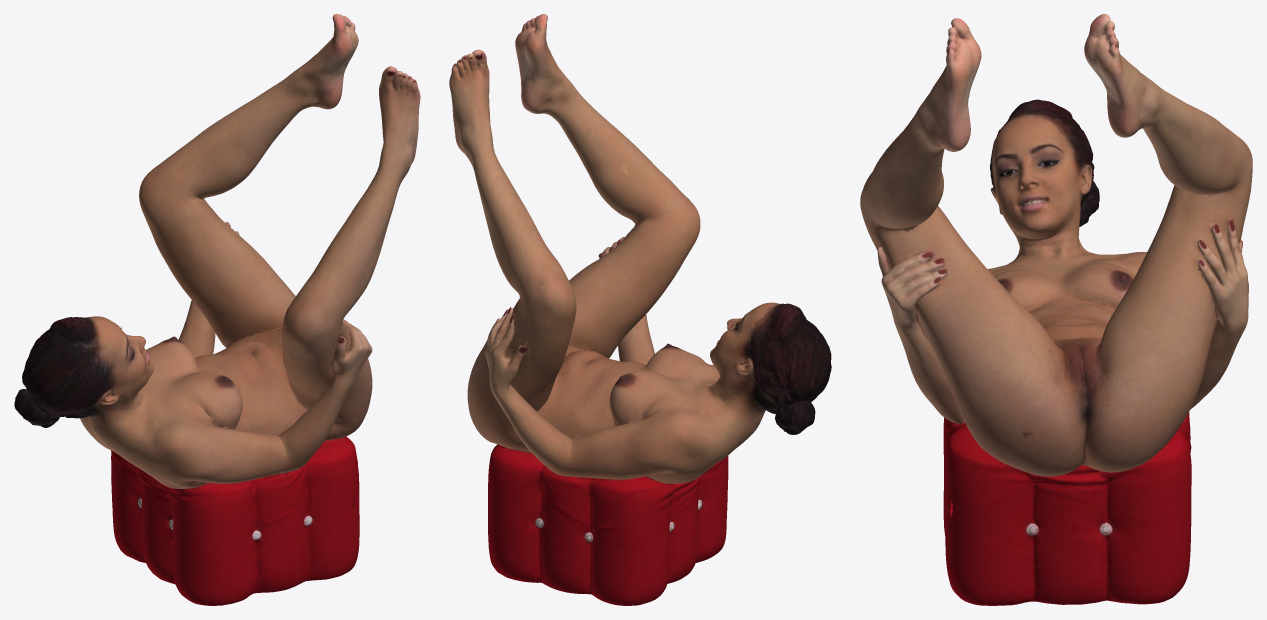
File: 10_opt.glb
3 renders of one model, left to right at view 1: azimuth 30°, elevation 25°; view 2: azimuth 150°, elevation 25°; view 3: azimuth 270°, elevation 25°, orthographic. The views are drawn at different scales.
Visible parts, largest first — view 1: 67_LOD0; view 2: 67_LOD0; view 3: 67_LOD0.
Boxes of the visible parts, box(x1,y1,x2,y2) form: 67_LOD0: box(14, 14, 420, 605); 67_LOD0: box(449, 14, 831, 605); 67_LOD0: box(860, 14, 1252, 605).
Size of the model in its own units: 0.8399 by 1.13 by 0.6563.
2 materials, 1 textured.
